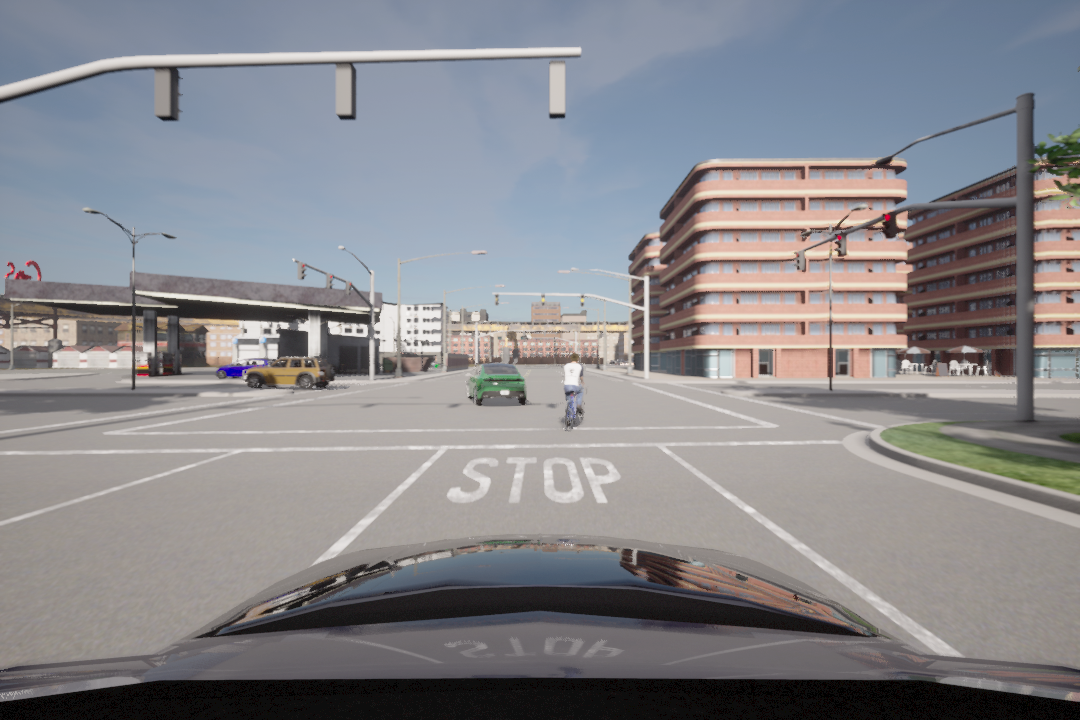TrafficLight: (881, 211, 896, 236), (833, 232, 846, 259), (794, 251, 807, 272), (296, 260, 306, 283), (325, 274, 334, 292), (345, 279, 352, 298), (494, 294, 502, 306), (540, 295, 548, 306), (581, 295, 584, 307)
